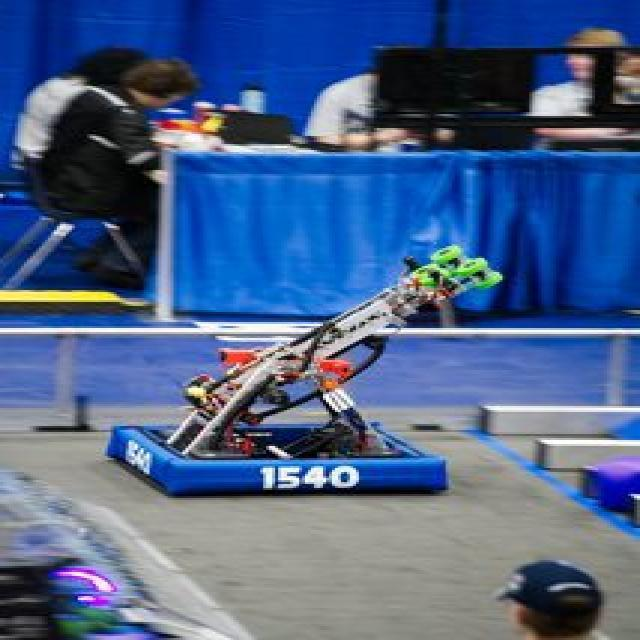robot: (101, 204, 505, 506)
